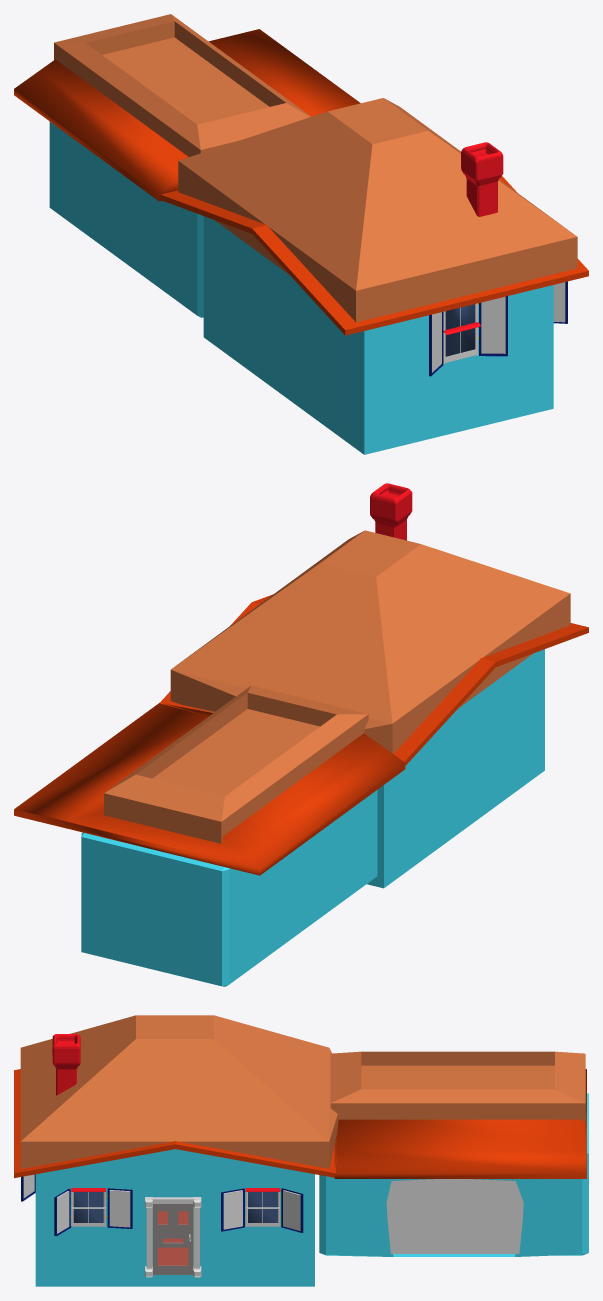
File: trei.fbx
3 renders of one model, top to bottom at view 1: azimuth 30°, elevation 25°; view 2: azimuth 150°, elevation 25°; view 3: azimuth 270°, elevation 25°, orthographic. The views are drawn at different scales.
Visible parts, largest first — view 1: Cube.001; view 2: Cube.001; view 3: Cube.001.
Part boxes in pixels (x1,y1,x2,y2): Cube.001: [14, 14, 588, 454]; Cube.001: [14, 483, 588, 986]; Cube.001: [14, 1015, 588, 1286].
Size of the model in its own units: 2353 by 2347 by 5436.
